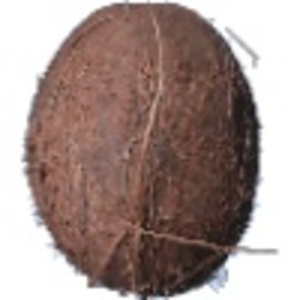coco: (24, 1, 262, 300)
